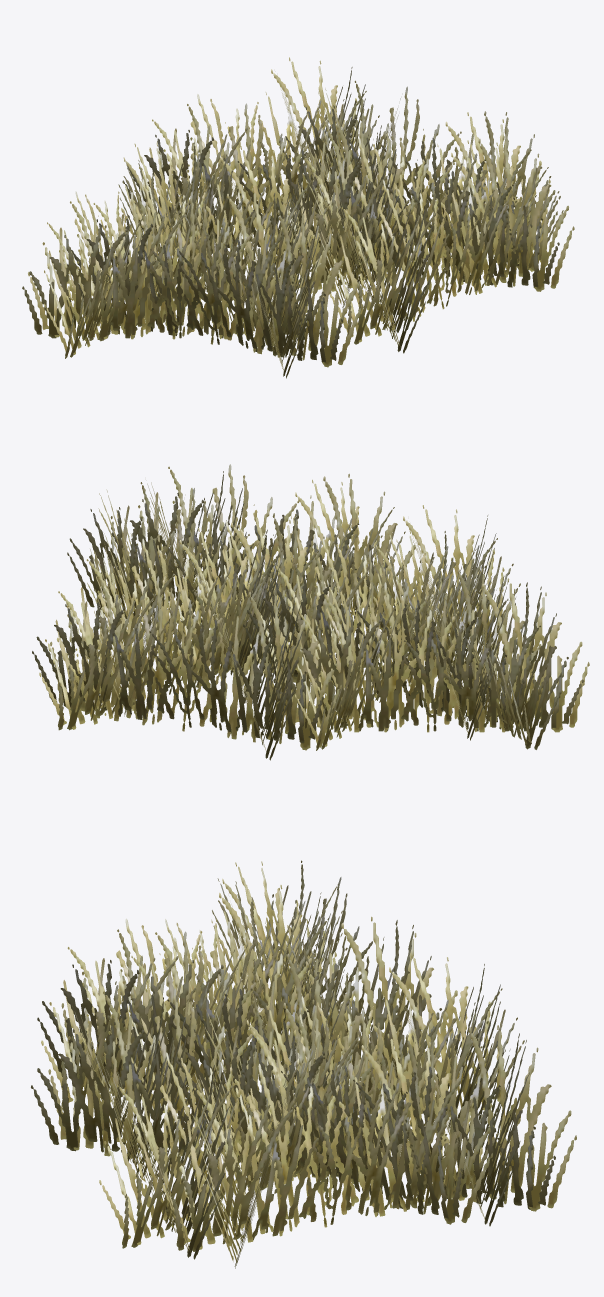
Rendered from grass_sm_tall_b.glb.
3 views of the same model, one above another, from view 1: azimuth 30°, elevation 25°; view 2: azimuth 150°, elevation 25°; view 3: azimuth 270°, elevation 25° (orthographic). The views are drawn at different scales.
Visible parts, largest first — view 1: grass_sm_tall_b; view 2: grass_sm_tall_b; view 3: grass_sm_tall_b.
Part boxes in pixels (x1,y1,x2,y2): grass_sm_tall_b: (22, 57, 574, 378); grass_sm_tall_b: (32, 464, 589, 760); grass_sm_tall_b: (31, 860, 576, 1268).
Bounding box in the file's own units: 11.07 × 3.12 × 8.84.
Materials: 1 (1 with a texture image).
